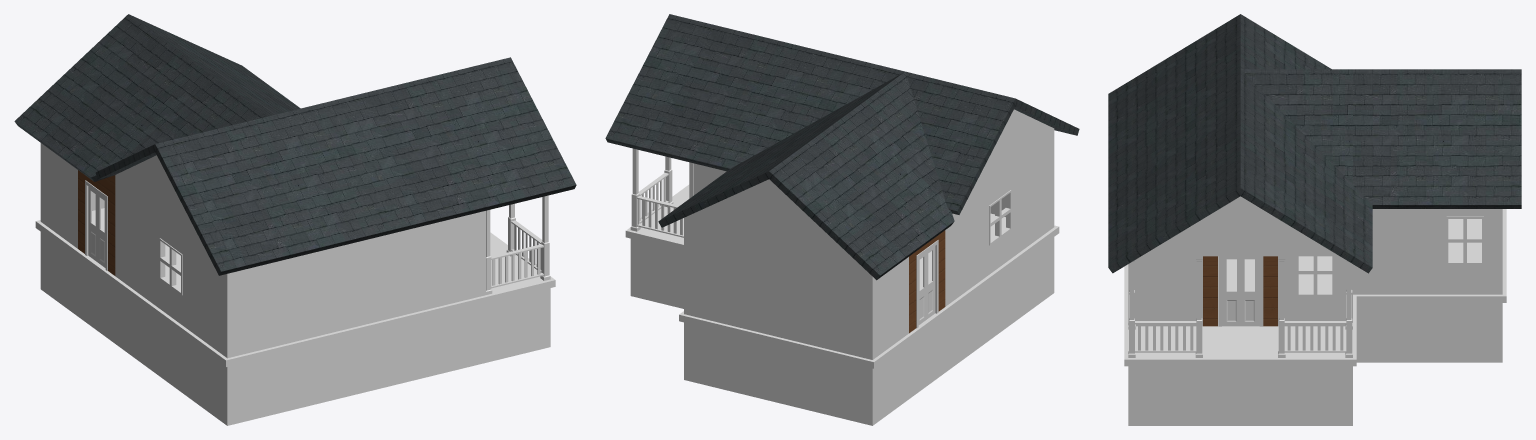
The model's file is House_01.fbx.
The picture shows the model from 3 angles, left to right: view 1: azimuth 30°, elevation 25°; view 2: azimuth 150°, elevation 25°; view 3: azimuth 270°, elevation 25°; orthographic projection. The views are drawn at different scales.
Parts seen in each view (by area): view 1: Roof1.019, Corner 0.5x3.001, Floor.039, Roof1.016, Pole6.001, Floor.001, Door 2x3.001; view 2: Roof1.019, Corner 0.5x3.001, Roof1.016, Floor.039, Pole6.001, Floor.001, Door 2x3.001; view 3: Roof1.019, Roof1.016, Floor.039, Corner 0.5x3.001, Floor.001, Pole6.001, Door 2x3.004, Floor.002.
Part boxes in pixels (x1,y1,x2,y2): Roof1.019: (95,57,576,275); Corner 0.5x3.001: (40,143,485,358); Floor.039: (35,220,555,425); Roof1.016: (14,14,300,181); Pole6.001: (486,195,550,294); Floor.001: (165,235,543,293); Door 2x3.001: (88,186,105,267); Roof1.019: (605,14,1079,214); Corner 0.5x3.001: (684,129,1054,359); Roof1.016: (658,72,954,280); Floor.039: (625,184,1059,425); Pole6.001: (630,148,693,237); Floor.001: (637,187,1005,289); Door 2x3.001: (918,246,935,324); Roof1.019: (1108,14,1372,273); Roof1.016: (1241,69,1521,208); Floor.039: (1124,209,1506,425); Corner 0.5x3.001: (1128,209,1502,326); Floor.001: (1128,256,1352,357); Pole6.001: (1128,256,1352,357); Door 2x3.004: (1222,256,1259,326); Floor.002: (1448,219,1481,260).
Size of the model in its own units: 1103 by 724 by 1103.
11 materials, 3 textured.
